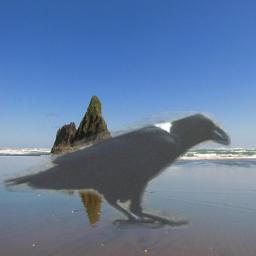Crow: (0, 111, 231, 229)
